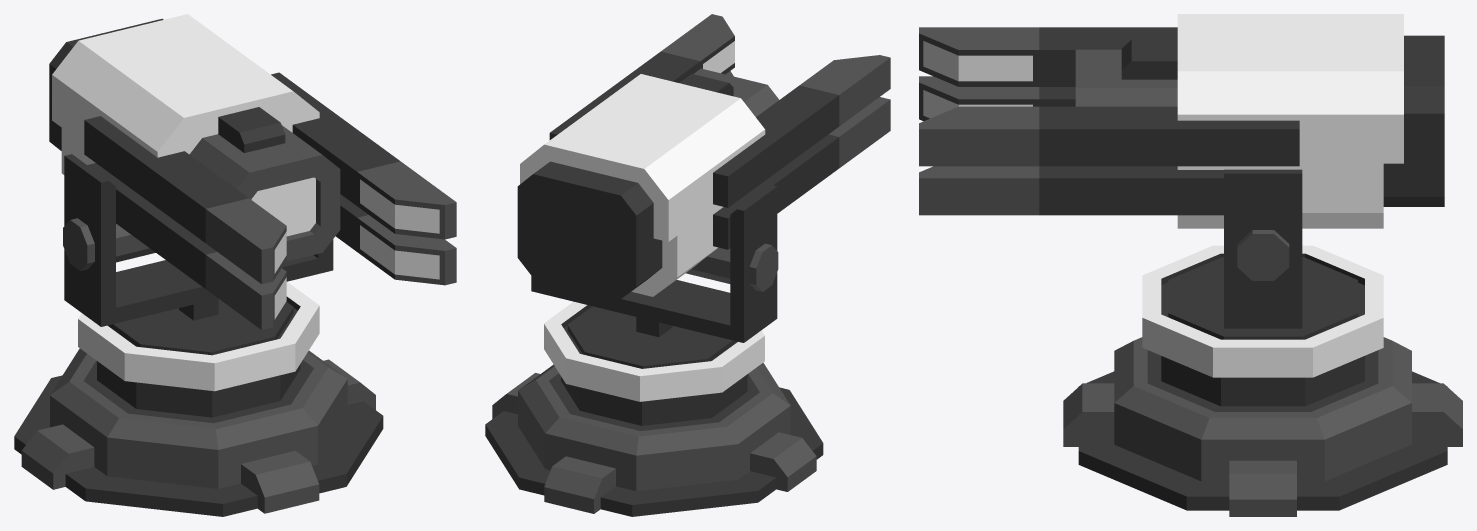
File: Shock_3.fbx
3 renders of one model, left to right at view 1: azimuth 30°, elevation 25°; view 2: azimuth 150°, elevation 25°; view 3: azimuth 270°, elevation 25°, orthographic. The views are drawn at different scales.
Visible parts, largest first — view 1: Body_Mesh, Base_Mesh, Upper_Mesh; view 2: Body_Mesh, Base_Mesh, Upper_Mesh; view 3: Body_Mesh, Base_Mesh, Upper_Mesh.
Part boxes in pixels (x1,y1,x2,y2): Body_Mesh: [49, 14, 456, 329]; Base_Mesh: [14, 348, 383, 516]; Upper_Mesh: [64, 154, 333, 417]; Body_Mesh: [517, 14, 890, 298]; Base_Mesh: [485, 362, 823, 516]; Upper_Mesh: [531, 185, 777, 425]; Body_Mesh: [919, 14, 1444, 280]; Base_Mesh: [1063, 337, 1462, 516]; Upper_Mesh: [1142, 169, 1383, 406].
Bounding box in the file's own units: 1.3 × 1.4 × 1.77.
